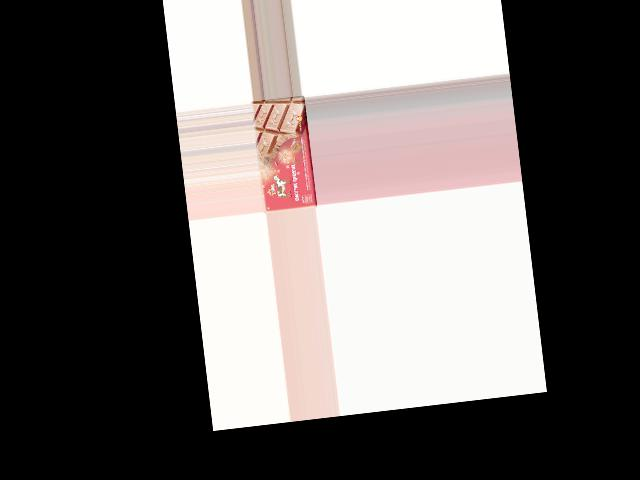chocolate: (251, 96, 317, 214)
